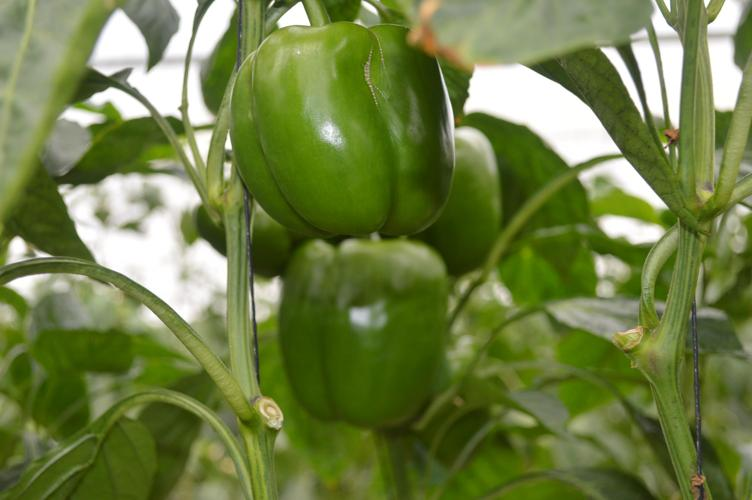BellPepper: (222, 19, 468, 234), (266, 239, 456, 434)
